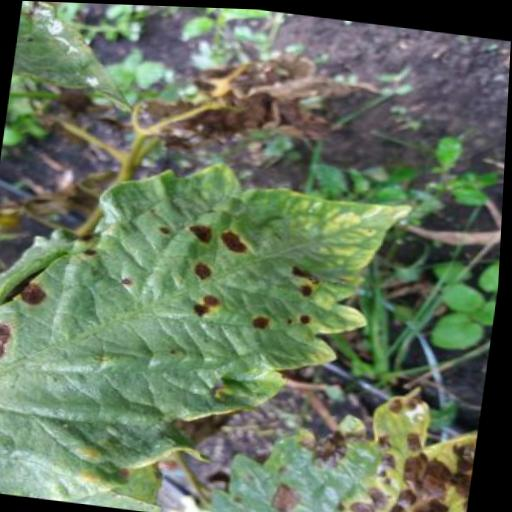Early Blight: (0, 131, 421, 512)
